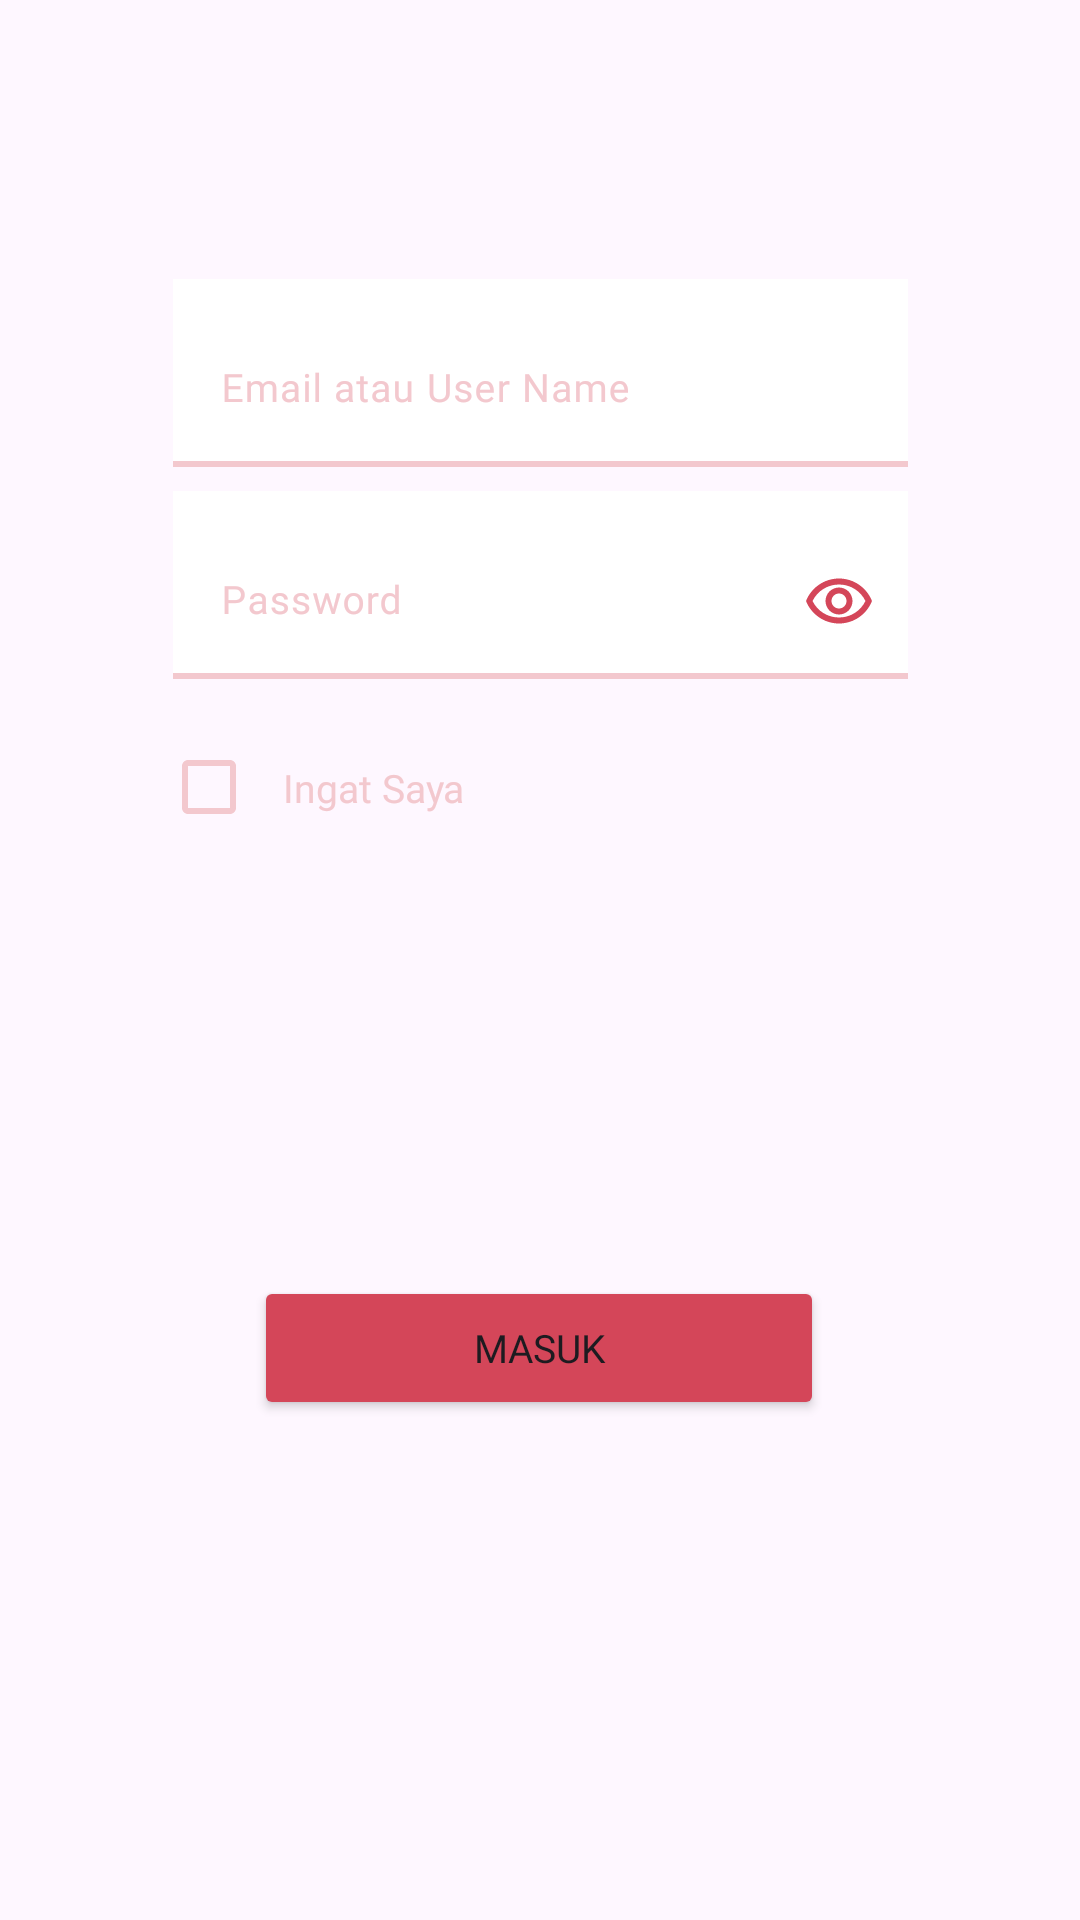

Named icons in this screenshot (1080w x 1920h) and their bounding boxes, (x1, y1, x2, y2):
eye open: (806, 578, 872, 624)
uncheck: (182, 760, 236, 814)
